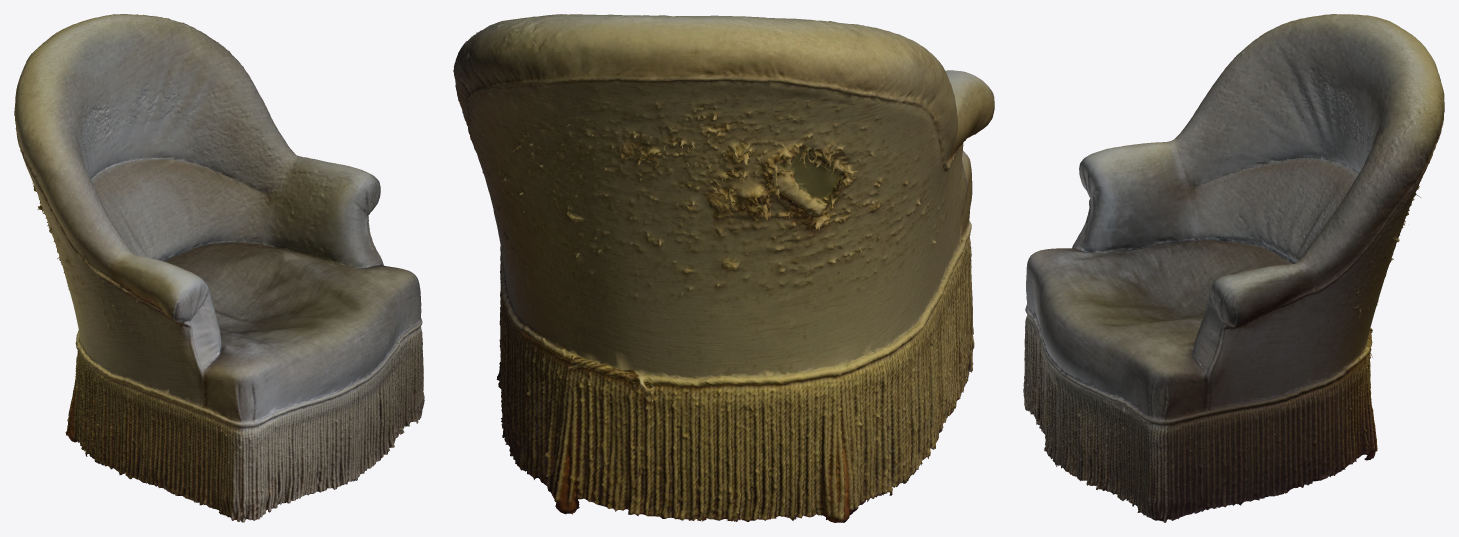
Rendered from sf-old-armchair-3f202e.glb.
3 renders of one model, left to right at view 1: azimuth 30°, elevation 25°; view 2: azimuth 150°, elevation 25°; view 3: azimuth 270°, elevation 25°, orthographic. The views are drawn at different scales.
Visible parts, largest first — view 1: Object_2; view 2: Object_2; view 3: Object_2.
Boxes of the visible parts, x1,y1,x2,y2 form: Object_2: (14, 14, 424, 522); Object_2: (453, 14, 994, 522); Object_2: (1023, 14, 1444, 522).
Size of the model in its own units: 17.01 by 17.45 by 17.81.
1 material, 1 textured.
